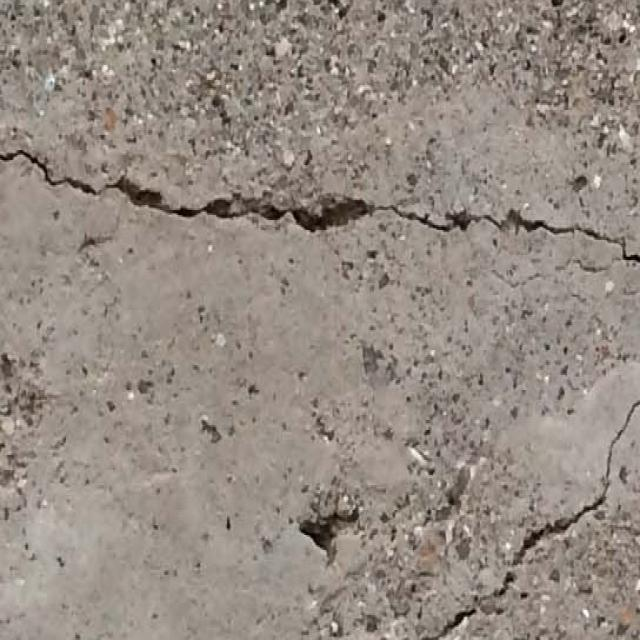crack: (0, 143, 639, 267), (433, 396, 639, 637)
spall: (299, 508, 364, 571)
